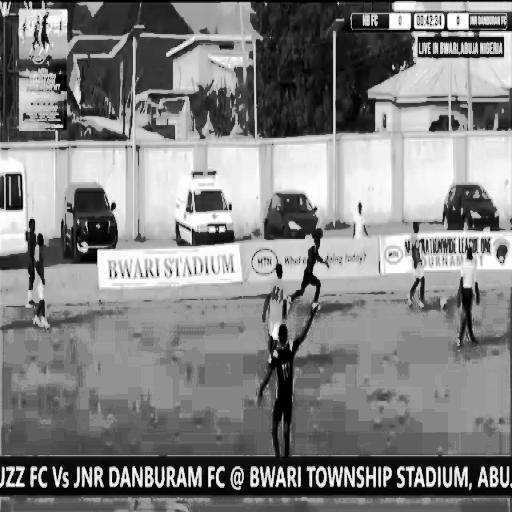ball: (438, 286, 448, 310)
referee: (460, 243, 483, 357)
team1: (404, 216, 434, 313), (264, 260, 284, 366), (34, 232, 51, 335)
team2: (272, 322, 308, 462), (294, 222, 328, 315), (27, 211, 38, 314)
